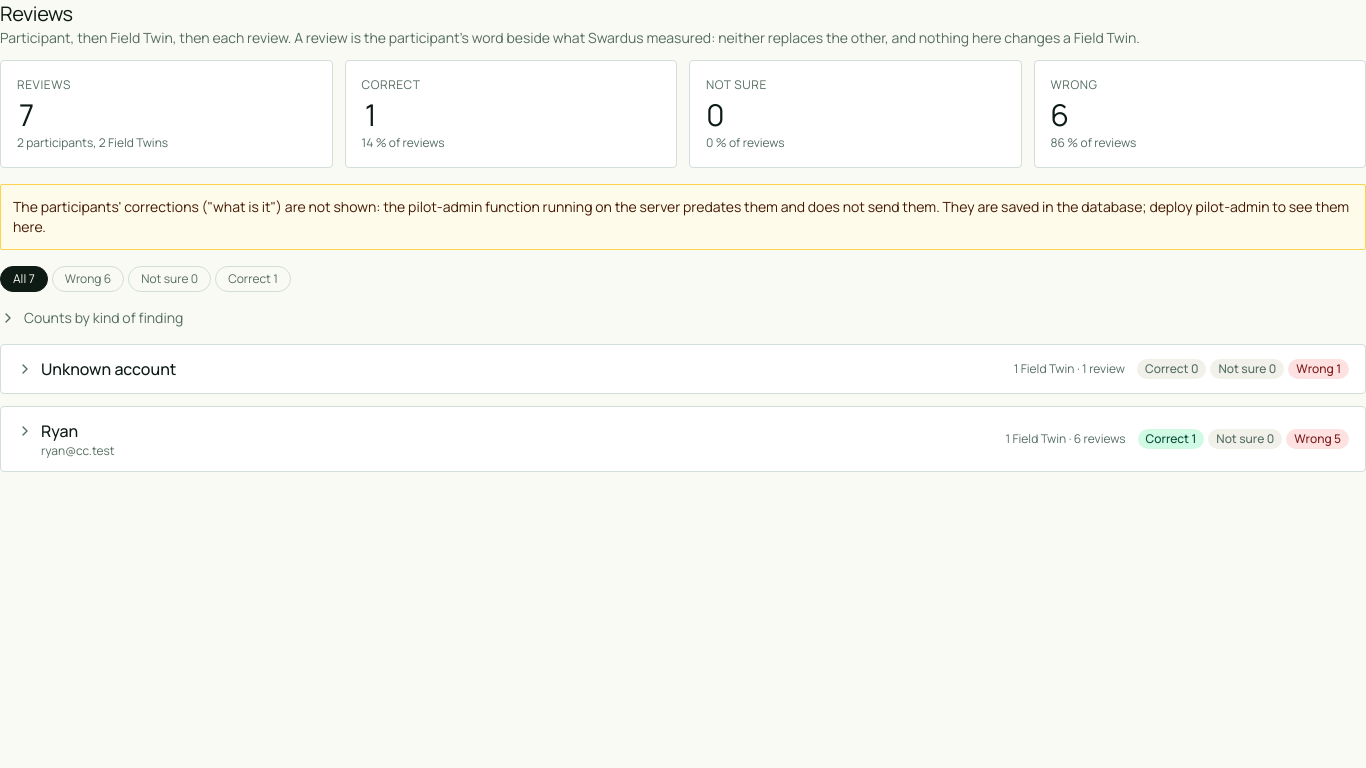
the reviews tab › from a pilot-admin that does not send answers yet: the reviews are all there, and it says the answers are not loaded, never that none were given
Click the button "Ryan".
click(60, 431)  # box [1,407,1365,471]
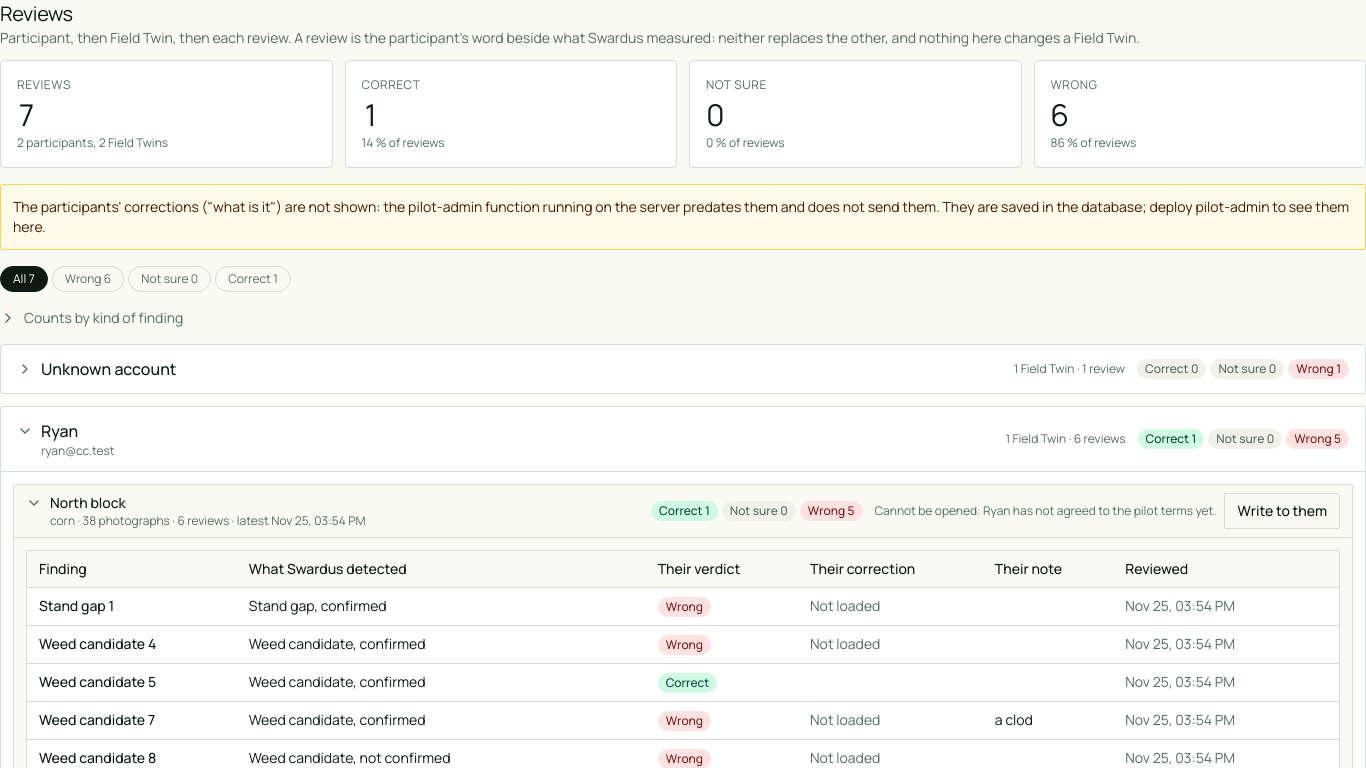
Expected: the message shows "pilot-admin function running on the server predates them", [13,197,1349,236]
Expected: the text "a clod" is shown, [983,702,1113,740]
Expected: the text "Not loaded" in the row of "Stand gap 1" is shown, [810,596,880,615]
